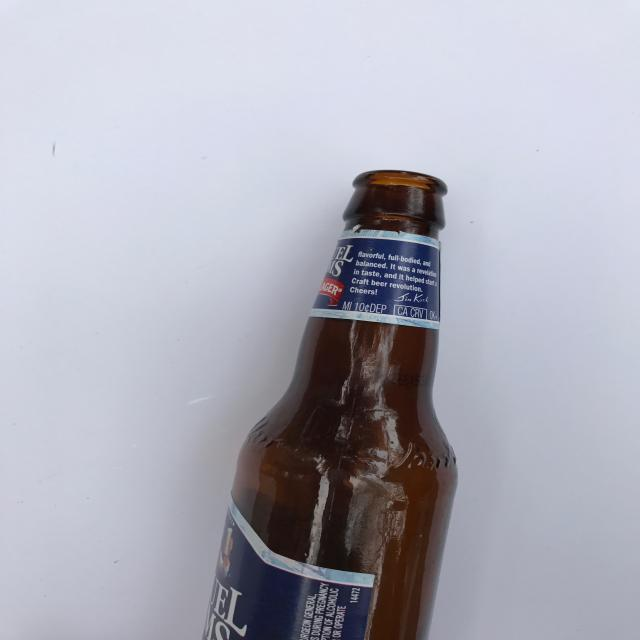glass: (207, 168, 460, 640)
